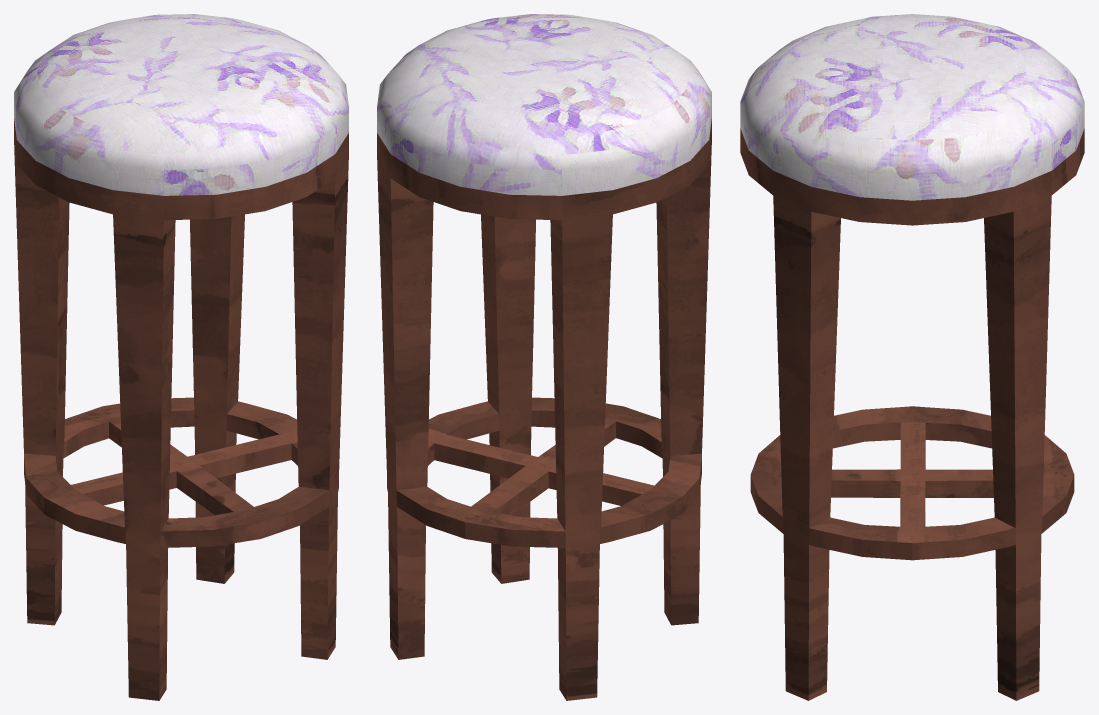
Rendered from stool_L.fbx.
3 renders of one model, left to right at view 1: azimuth 30°, elevation 25°; view 2: azimuth 150°, elevation 25°; view 3: azimuth 270°, elevation 25°, orthographic. The views are drawn at different scales.
Visible parts, largest first — view 1: pCylinder2; view 2: pCylinder2; view 3: pCylinder2.
Boxes of the visible parts, x1,y1,x2,y2 form: pCylinder2: [14, 14, 348, 700]; pCylinder2: [377, 14, 711, 700]; pCylinder2: [740, 14, 1084, 700].
Bounding box in the file's own units: 2 × 3.78 × 2.
2 materials, 2 textured.
